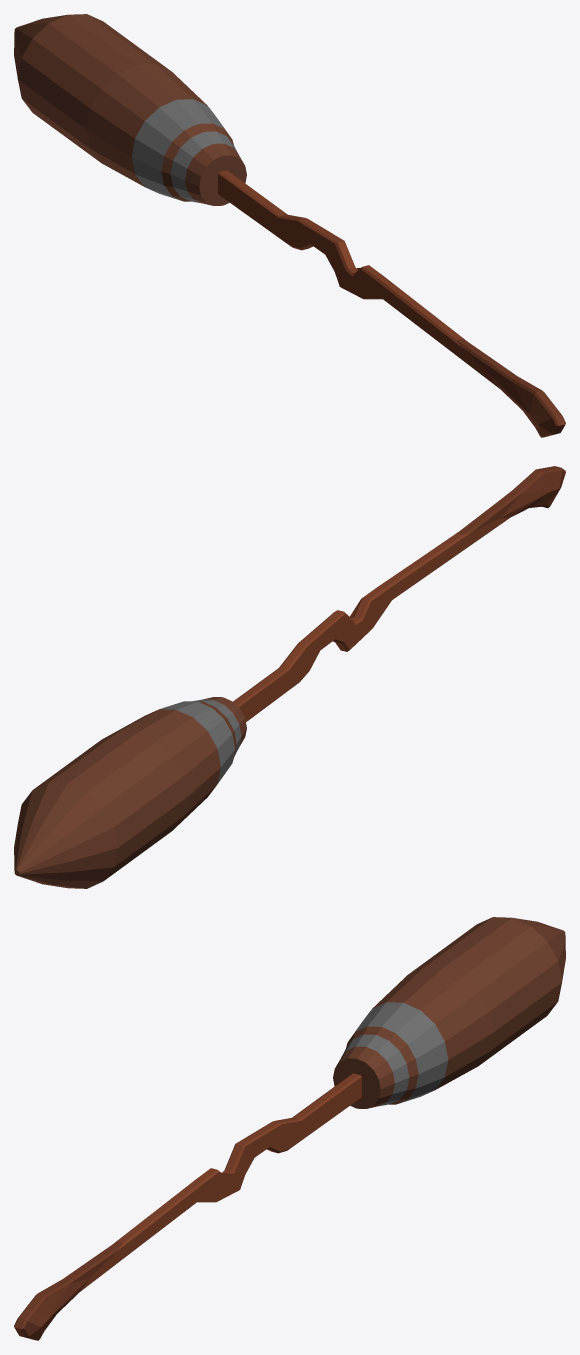
Rendered from comet180.obj.
3 views of the same model, one above another, from view 1: azimuth 30°, elevation 25°; view 2: azimuth 150°, elevation 25°; view 3: azimuth 330°, elevation 25° (orthographic).
Visible parts, largest first — view 1: Body; view 2: Body; view 3: Body.
Boxes of the visible parts, bbox=[...] form: Body: bbox=[14, 14, 565, 437]; Body: bbox=[14, 466, 565, 888]; Body: bbox=[14, 917, 565, 1340].
Bounding box in the file's own units: 0.5121 × 0.5121 × 4.83.
